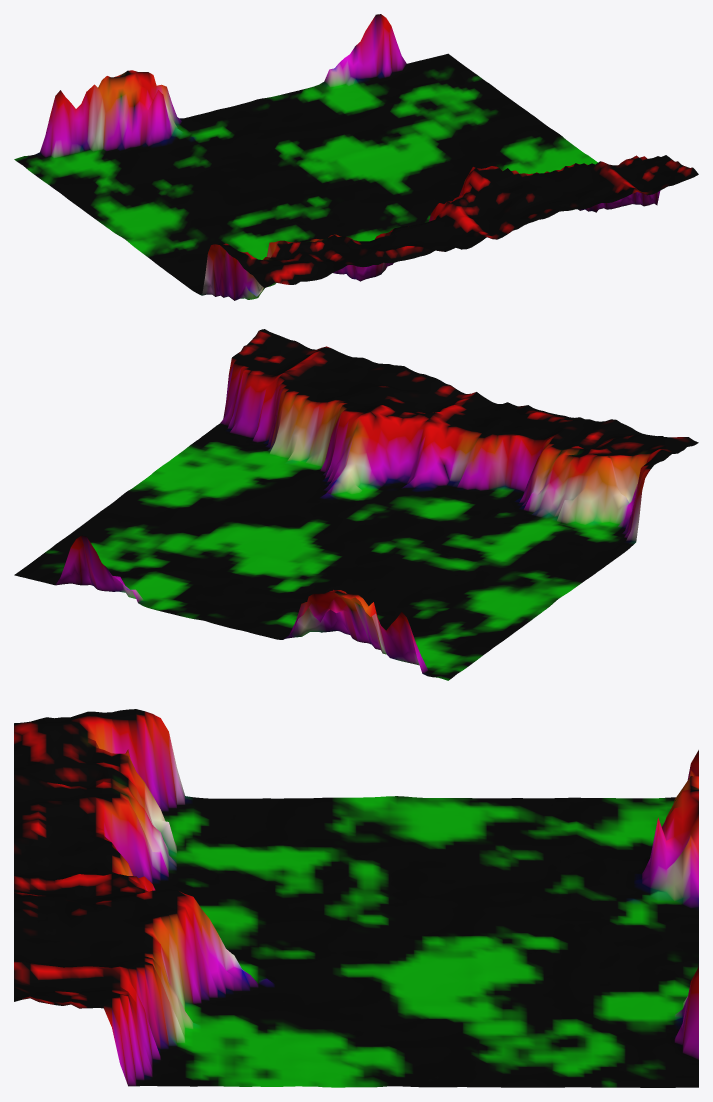
Rendered from SM_AlUla_Terrain_0_0.fbx.
3 views of the same model, one above another, from view 1: azimuth 30°, elevation 25°; view 2: azimuth 150°, elevation 25°; view 3: azimuth 270°, elevation 25° (orthographic). The views are drawn at different scales.
Parts seen in each view (by area): view 1: SM_AlUla_Terrain_0_0; view 2: SM_AlUla_Terrain_0_0; view 3: SM_AlUla_Terrain_0_0.
Part boxes in pixels (<box>): SM_AlUla_Terrain_0_0: <box>14,14,698,300</box>; SM_AlUla_Terrain_0_0: <box>14,329,698,680</box>; SM_AlUla_Terrain_0_0: <box>14,709,698,1087</box>.
Bounding box in the file's own units: 50400 × 7329 × 50400.
